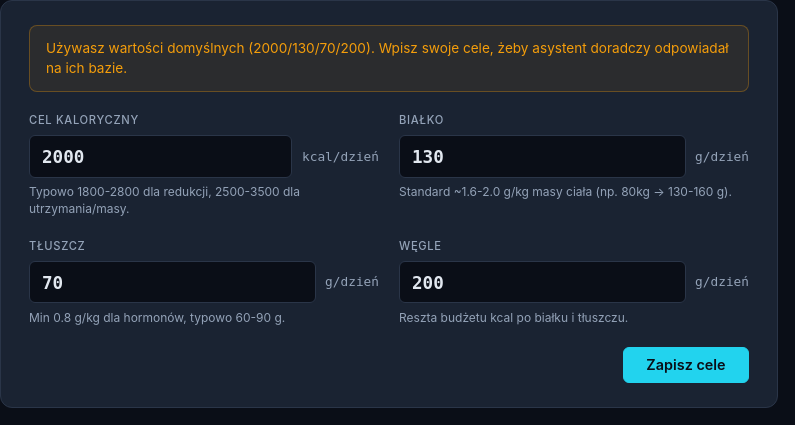
it: ProfileTargetsForm › out of range shows field error and skips PUT
The width and height of the screenshot is (795, 425).
Step 1. Replace the text in the number field showing "2000" with "500" → (161, 156), box x1=29 y1=135 x2=292 y2=178
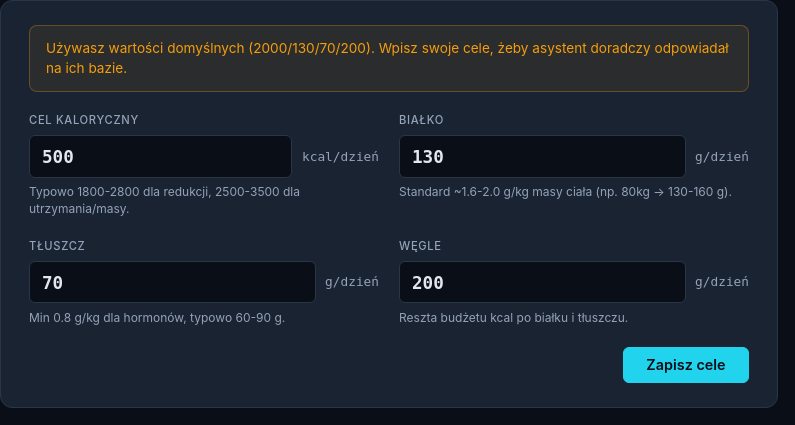
Step 2. Click the button "Zapisz cele" → (686, 365), box x1=623 y1=346 x2=749 y2=383
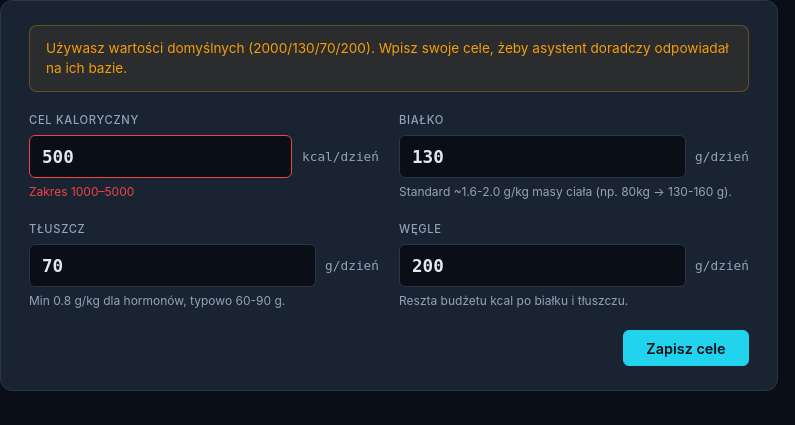
Now the text "Zakres 1000–5000" is shown, box x1=29 y1=184 x2=134 y2=199
